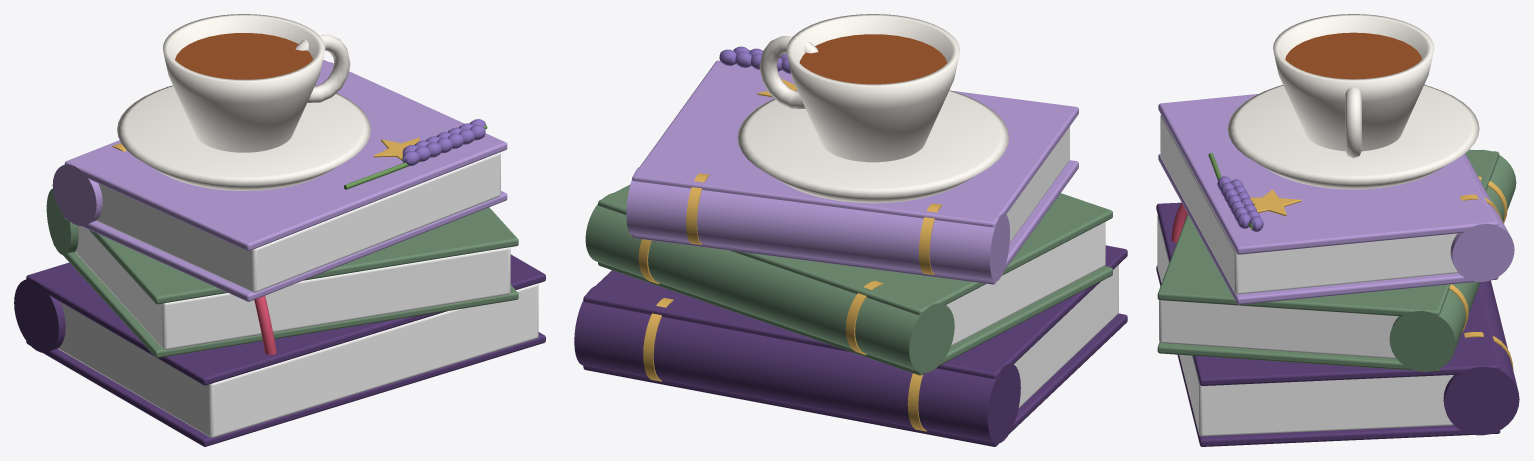
The model's file is decor_book_stack.glb.
The picture shows the model from 3 angles, left to right: view 1: azimuth 30°, elevation 25°; view 2: azimuth 150°, elevation 25°; view 3: azimuth 270°, elevation 25°; orthographic projection. The views are drawn at different scales.
Visible parts, largest first — view 1: Bk4_Pages0.001, Bk4_Top2.001, Bk4_Pages1.001, Bk4_Pages2.001, Bk4_Tea_Saucer.001, Bk4_Tea_Cup.001, Bk4_Top0.001, Bk4_Top1.001, Bk4_Tea_Tea.001, Bk4_Bot0.001, Bk4_Bot1.001, Bk4_Bot2.001 (+6 smaller); view 2: Bk4_Spine0.001, Bk4_Top2.001, Bk4_Spine2.001, Bk4_Spine1.001, Bk4_Tea_Saucer.001, Bk4_Tea_Cup.001, Bk4_Top0.001, Bk4_Top1.001, Bk4_Pages1.001, Bk4_Tea_Tea.001, Bk4_Pages0.001, Bk4_Bot0.001 (+10 smaller); view 3: Bk4_Top2.001, Bk4_Tea_Saucer.001, Bk4_Pages0.001, Bk4_Pages2.001, Bk4_Tea_Cup.001, Bk4_Pages1.001, Bk4_Top1.001, Bk4_Top0.001, Bk4_Spine1.001, Bk4_Spine0.001, Bk4_Tea_Tea.001, Bk4_Bot0.001 (+6 smaller).
Boxes of the visible parts, x1,y1,x2,y2 form: Bk4_Pages0.001: (58, 283, 538, 437); Bk4_Top2.001: (64, 60, 507, 251); Bk4_Pages1.001: (75, 225, 510, 349); Bk4_Pages2.001: (96, 152, 500, 292); Bk4_Tea_Saucer.001: (117, 85, 370, 190); Bk4_Tea_Cup.001: (163, 14, 325, 152); Bk4_Top0.001: (26, 254, 545, 385); Bk4_Top1.001: (89, 207, 518, 304); Bk4_Tea_Tea.001: (175, 33, 312, 79); Bk4_Bot0.001: (26, 332, 545, 446); Bk4_Bot1.001: (53, 243, 518, 357); Bk4_Bot2.001: (64, 191, 507, 301); Bk4_Spine0.001: (574, 286, 1020, 443); Bk4_Top2.001: (632, 60, 1078, 227); Bk4_Spine2.001: (626, 167, 1009, 281); Bk4_Spine1.001: (585, 193, 954, 372); Bk4_Tea_Saucer.001: (737, 90, 1008, 203); Bk4_Tea_Cup.001: (786, 14, 960, 162); Bk4_Top0.001: (583, 245, 1127, 378); Bk4_Top1.001: (598, 184, 1112, 315); Bk4_Pages1.001: (946, 222, 1105, 345); Bk4_Tea_Tea.001: (799, 34, 946, 84); Bk4_Pages0.001: (1014, 265, 1118, 407); Bk4_Bot0.001: (583, 313, 1127, 446); Bk4_Top2.001: (1158, 94, 1498, 254); Bk4_Tea_Saucer.001: (1227, 85, 1479, 189); Bk4_Pages0.001: (1157, 215, 1453, 436); Bk4_Pages2.001: (1160, 115, 1458, 294); Bk4_Tea_Cup.001: (1273, 14, 1434, 151); Bk4_Pages1.001: (1159, 300, 1398, 358); Bk4_Top1.001: (1157, 149, 1499, 317); Bk4_Top0.001: (1156, 202, 1500, 385); Bk4_Spine1.001: (1389, 149, 1516, 371); Bk4_Spine0.001: (1443, 280, 1519, 435); Bk4_Tea_Tea.001: (1285, 32, 1421, 79); Bk4_Bot0.001: (1156, 265, 1500, 446).
Size of the model in its own units: 0.2685 by 0.1918 by 0.2162.
